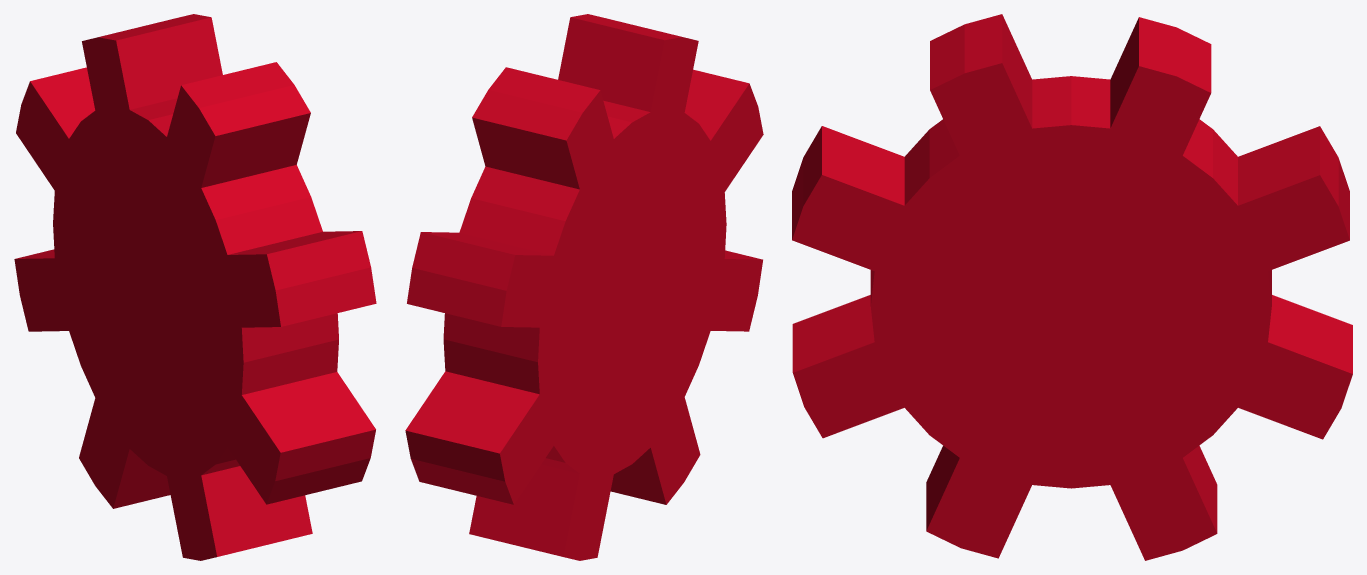
File: gear2.fbx
3 renders of one model, left to right at view 1: azimuth 30°, elevation 25°; view 2: azimuth 150°, elevation 25°; view 3: azimuth 270°, elevation 25°, orthographic. The views are drawn at different scales.
Parts seen in each view (by area): view 1: Cylinder; view 2: Cylinder; view 3: Cylinder.
Boxes of the visible parts, x1=… form: Cylinder: x1=14, y1=14, x2=376, y2=560; Cylinder: x1=405, y1=14, x2=763, y2=560; Cylinder: x1=792, y1=14, x2=1352, y2=560.
Bounding box in the file's own units: 57.85 × 274 × 280.
